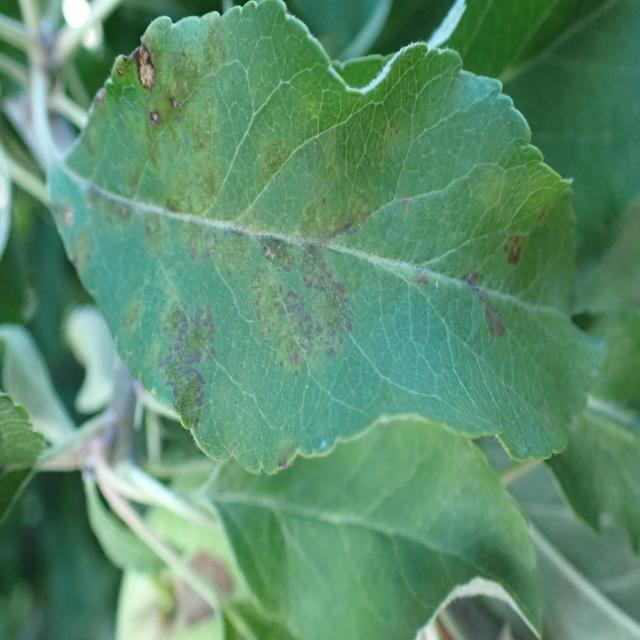scab: (97, 26, 583, 448)
